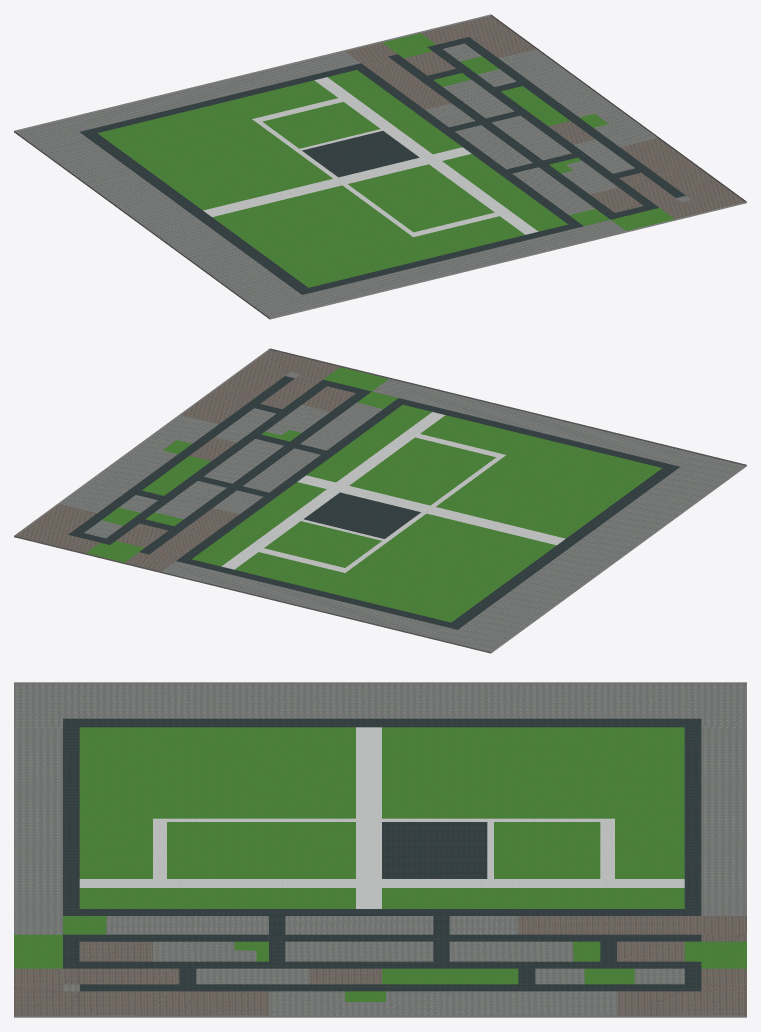
The model's file is ground.fbx.
3 renders of one model, top to bottom at view 1: azimuth 30°, elevation 25°; view 2: azimuth 150°, elevation 25°; view 3: azimuth 270°, elevation 25°, orthographic. The views are drawn at different scales.
Parts seen in each view (by area): view 1: pPlane1; view 2: pPlane1; view 3: pPlane1.
Boxes of the visible parts, x1,y1,x2,y2 form: pPlane1: [14, 14, 746, 319]; pPlane1: [14, 348, 746, 653]; pPlane1: [14, 682, 746, 1017].
Size of the model in its own units: 26959 by 82.66 by 25049.
Materials: 7 (6 with a texture image).
